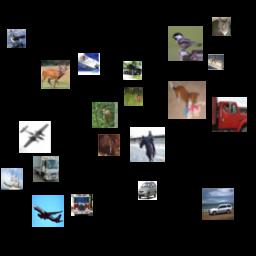airplane: (32, 195, 64, 227), (19, 121, 51, 153)
automobile: (202, 188, 234, 220), (138, 181, 157, 200)
bird: (168, 26, 203, 61), (98, 134, 120, 156), (7, 29, 26, 48)
cat: (212, 17, 231, 36)
deer: (41, 60, 70, 89), (92, 102, 118, 128), (124, 87, 143, 106)
dog: (168, 81, 206, 119)
ship: (78, 53, 100, 75), (1, 168, 23, 190), (208, 54, 224, 70)
truck: (212, 97, 247, 132), (33, 156, 59, 182), (71, 194, 93, 216), (123, 61, 142, 80)
